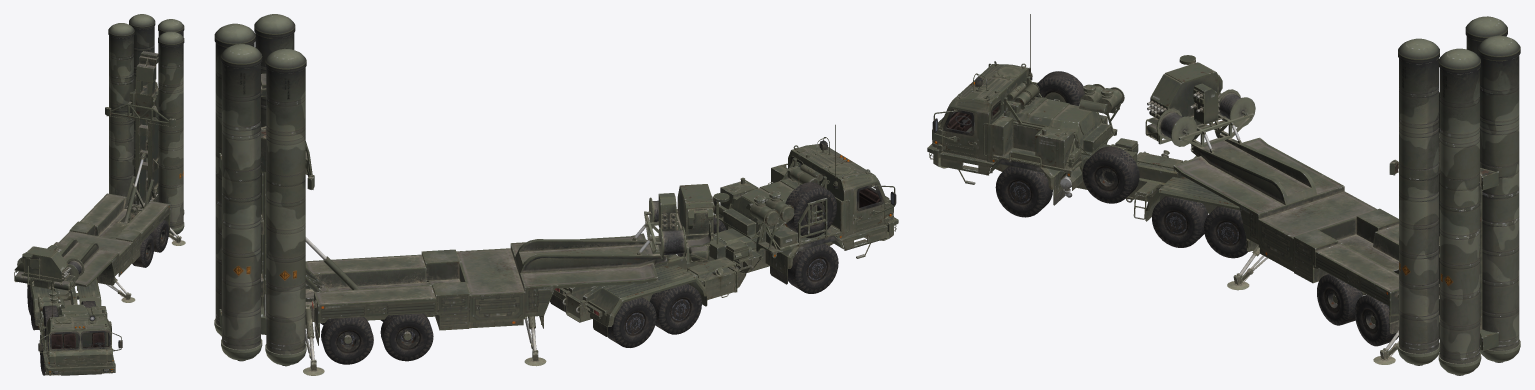
The picture shows the model from 3 angles, left to right: view 1: azimuth 30°, elevation 25°; view 2: azimuth 150°, elevation 25°; view 3: azimuth 270°, elevation 25°; orthographic projection. The views are drawn at different scales.
Parts seen in each view (by area): view 1: SM_S400_VarA_01_01_Rockets_4.001_0, SM_S400_VarA_01_01_Truck_1.001_2; view 2: SM_S400_VarA_01_01_Rockets_4.001_0, SM_S400_VarA_01_01_Truck_1.001_2; view 3: SM_S400_VarA_01_01_Rockets_4.001_0, SM_S400_VarA_01_01_Truck_1.001_2.
Boxes of the visible parts, x1,y1,x2,y2 form: SM_S400_VarA_01_01_Rockets_4.001_0: [14, 14, 185, 302]; SM_S400_VarA_01_01_Truck_1.001_2: [27, 278, 122, 375]; SM_S400_VarA_01_01_Rockets_4.001_0: [214, 14, 729, 375]; SM_S400_VarA_01_01_Truck_1.001_2: [550, 124, 898, 347]; SM_S400_VarA_01_01_Rockets_4.001_0: [1145, 16, 1520, 375]; SM_S400_VarA_01_01_Truck_1.001_2: [927, 14, 1247, 258].
Bounding box in the file's own units: 1328 × 876 × 1468.
Materials: 2 (2 with a texture image).
